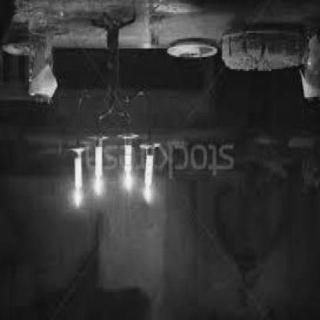Fire: (138, 183, 160, 211), (72, 188, 88, 212), (94, 174, 108, 200), (123, 169, 134, 196)
